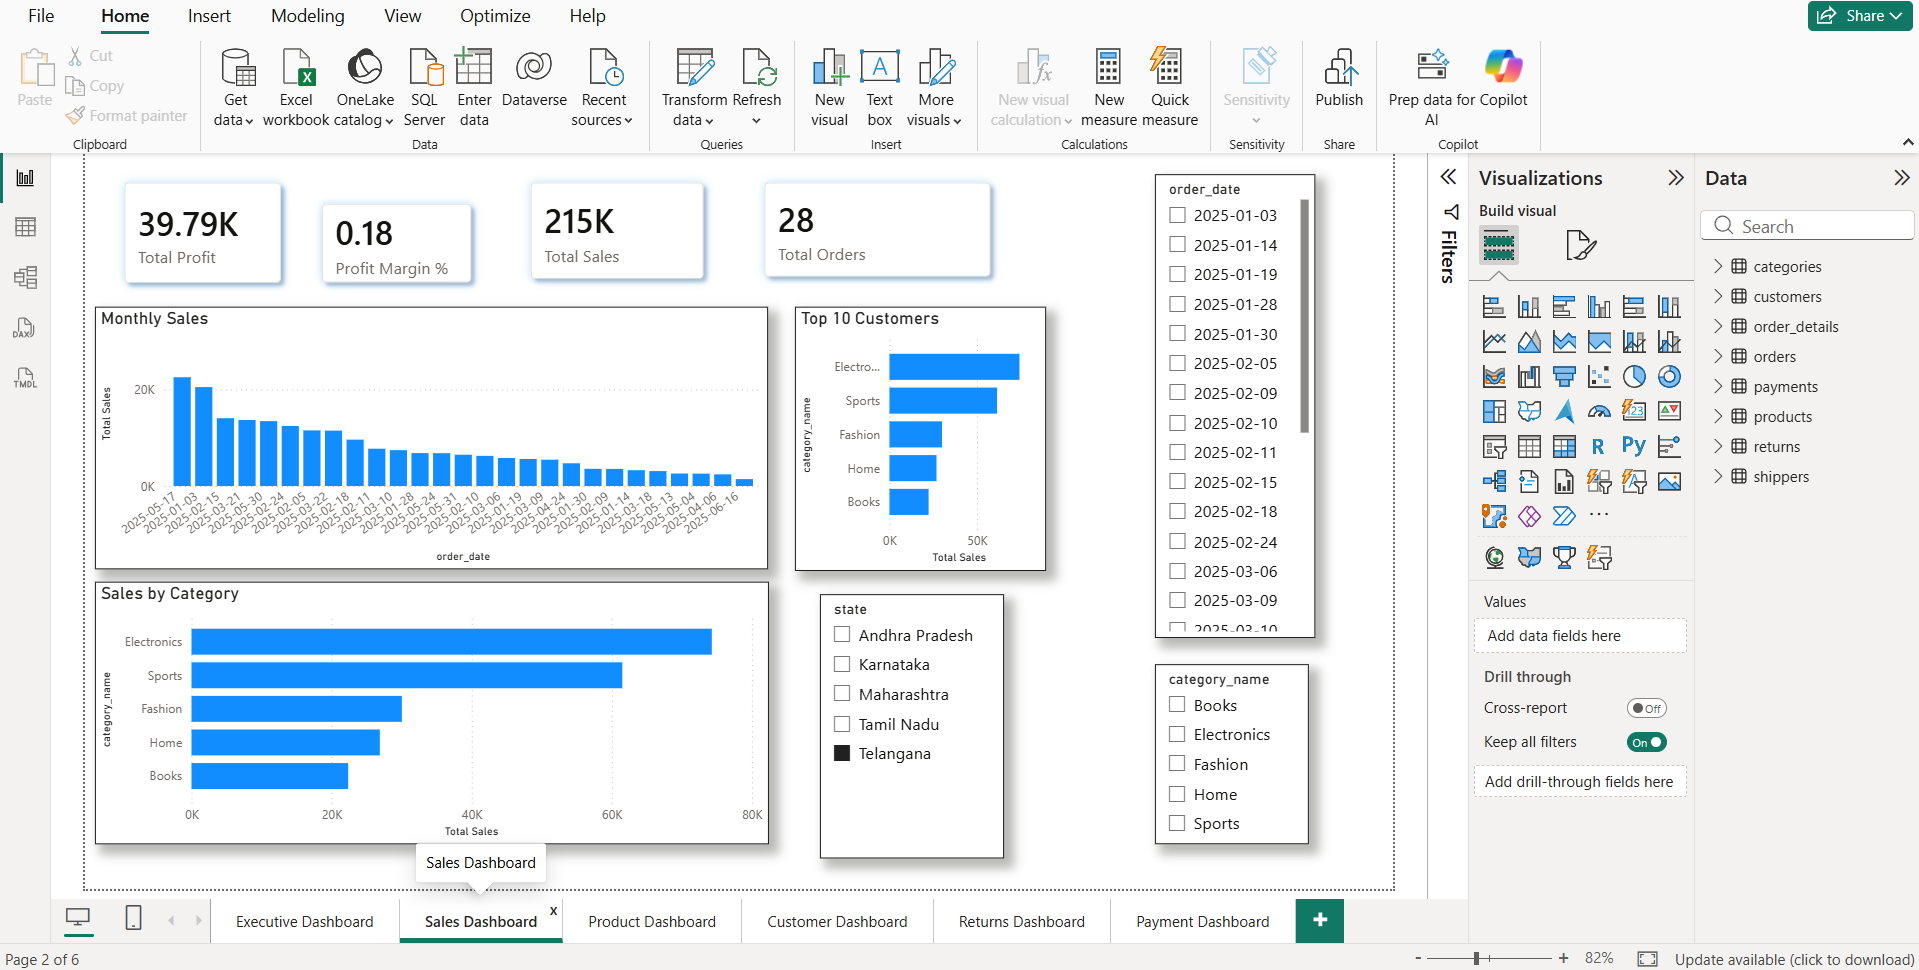

The dashboard page shown, as its layout file describes it:
{"tool":"powerbi","page":{"name":"Sales Dashboard","canvas":[1280,720],"ordinal":1},"visuals":[{"type":"cardVisual","fields":{"Data":["categories.Total Profit"]},"box":[9.6,0,211.3,156.4],"z":0},{"type":"cardVisual","fields":{"Data":["categories.Total Sales"]},"box":[407.5,0,227.8,152.3],"z":1000},{"type":"cardVisual","fields":{"Data":["categories.Total Orders"]},"box":[635.3,0,279.9,150.9],"z":2000},{"type":"cardVisual","fields":{"Data":["categories.Profit Margin %"]},"box":[203.1,20.6,204.5,135.8],"z":3000},{"type":"clusteredColumnChart","title":"Monthly Sales","fields":{"Category":["orders.order_date"],"Y":["categories.Total Sales"]},"box":[9.6,150.9,658.7,256.6],"z":4000},{"type":"clusteredBarChart","title":"Sales by Category","fields":{"Category":["categories.category_name"],"Y":["categories.Total Sales"]},"box":[10,419.5,659,257],"z":5000},{"type":"clusteredBarChart","title":"Top 10 Customers","fields":{"Category":["categories.category_name"],"Y":["categories.Total Sales"]},"box":[694.6,150.4,245.8,258],"z":6000},{"type":"slicer","fields":{"Values":["customers.state"]},"box":[719,431.7,179.8,258],"z":7000},{"type":"slicer","fields":{"Values":["categories.category_name"]},"box":[1046.7,500.1,150.4,176.1],"z":8000},{"type":"slicer","fields":{"Values":["orders.order_date"]},"box":[1046.7,20.8,156.5,453.7],"z":9000}]}

Visuals, with their boxes on the page's 1280x720 design canvas (x1, y1, x2, y2). These are canvas units, not pixel positions in the 1919x970 screenshot, which may show the page scaled, cropped or inside an application window:
cardVisual - categories.Total Profit: l=10, t=0, r=221, b=156
cardVisual - categories.Total Sales: l=408, t=0, r=635, b=152
cardVisual - categories.Total Orders: l=635, t=0, r=915, b=151
cardVisual - categories.Profit Margin %: l=203, t=21, r=408, b=156
"Monthly Sales" clusteredColumnChart: l=10, t=151, r=668, b=408
"Sales by Category" clusteredBarChart: l=10, t=420, r=669, b=676
"Top 10 Customers" clusteredBarChart: l=695, t=150, r=940, b=408
slicer - customers.state: l=719, t=432, r=899, b=690
slicer - categories.category_name: l=1047, t=500, r=1197, b=676
slicer - orders.order_date: l=1047, t=21, r=1203, b=474
